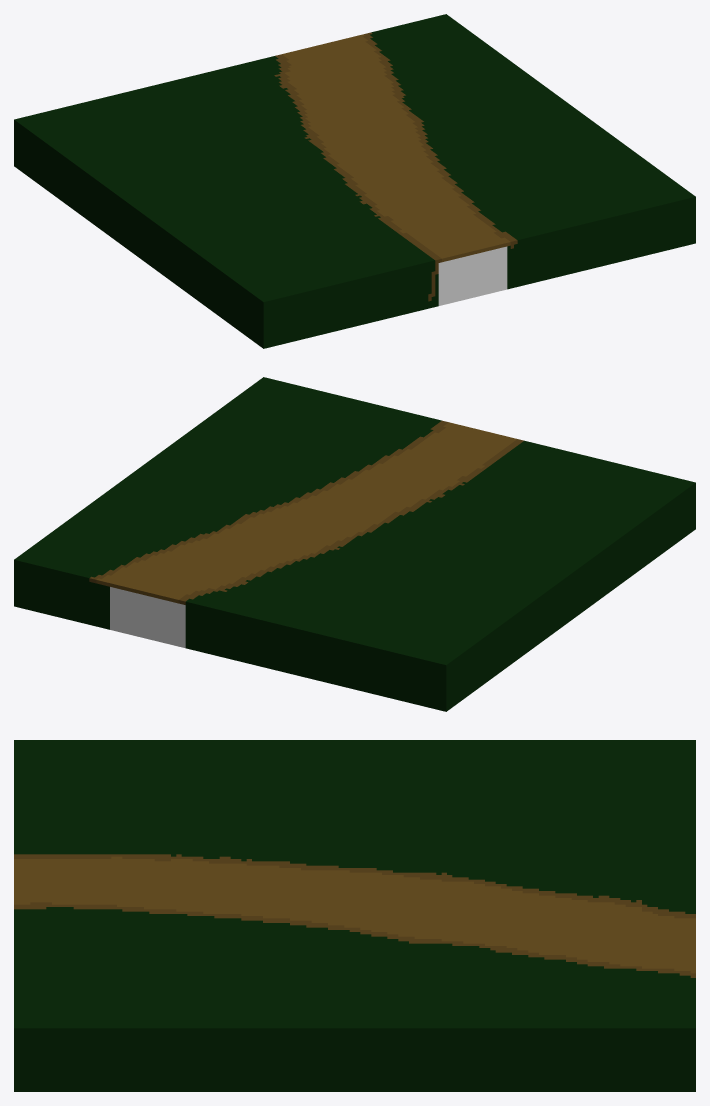
Rendered from map-1.obj.
3 renders of one model, top to bottom at view 1: azimuth 30°, elevation 25°; view 2: azimuth 150°, elevation 25°; view 3: azimuth 270°, elevation 25°, orthographic. The views are drawn at different scales.
Parts seen in each view (by area): view 1: map-1; view 2: map-1; view 3: map-1.
Part boxes in pixels (x1=…): map-1: x1=14, y1=14, x2=695, y2=348; map-1: x1=14, y1=377, x2=695, y2=711; map-1: x1=14, y1=740, x2=695, y2=1091.
Bounding box in the file's own units: 126 × 13 × 126.
Materials: 1 (1 with a texture image).
